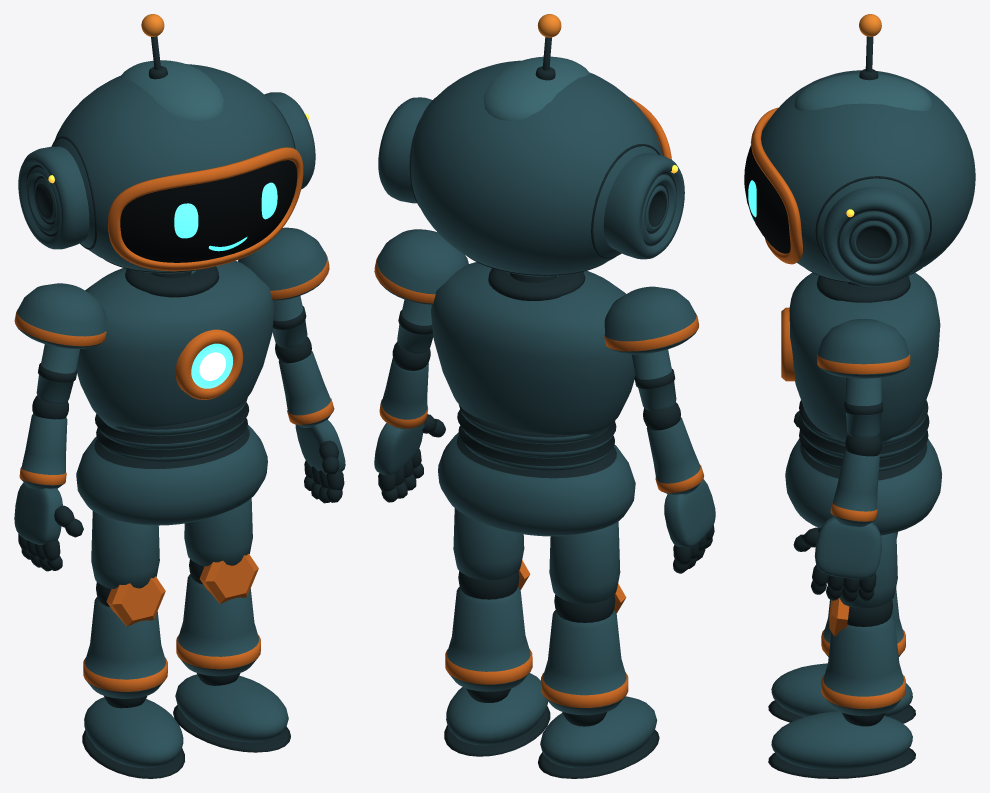
File: maximilian23.glb
3 views of the same model, side by side, from view 1: azimuth 30°, elevation 25°; view 2: azimuth 150°, elevation 25°; view 3: azimuth 270°, elevation 25° (orthographic). The views are drawn at different scales.
Visible parts, largest first — view 1: Pecho, Carcasa, Cadera, Pantalla, Espinilla_R, Espinilla_L, Auricular_R, Pie_L, Abdomen, Pie_R, Borde_Visor, Hombrera_R (+20 smaller); view 2: Carcasa, Pecho, Cadera, Espinilla_R, Espinilla_L, Auricular_R, Abdomen, Pie_R, Hombrera_R, Hombrera_L, Muslo_R, Pie_L (+16 smaller); view 3: Carcasa, Pecho, Auricular_L, Cadera, Espinilla_L, Pie_L, Hombrera_L, Panel_Superior, Palma_L, Abdomen, Antebrazo_L, Pie_R (+14 smaller).
Boxes of the visible parts, x1,y1,x2,y2 form: Pecho: (76, 261, 274, 432); Carcasa: (52, 64, 294, 273); Cadera: (76, 425, 267, 525); Pantalla: (120, 160, 297, 262); Espinilla_R: (83, 597, 167, 698); Espinilla_L: (176, 574, 260, 676); Auricular_R: (18, 146, 89, 249); Pie_L: (175, 674, 288, 742); Abdomen: (95, 398, 249, 462); Pie_R: (84, 697, 183, 768); Borde_Visor: (108, 147, 303, 271); Hombrera_R: (14, 283, 106, 349); Carcasa: (409, 60, 662, 276); Pecho: (431, 262, 635, 440); Cadera: (438, 432, 635, 536); Espinilla_R: (541, 610, 628, 715); Espinilla_L: (445, 586, 532, 691); Auricular_R: (603, 153, 684, 259); Abdomen: (457, 405, 616, 471); Pie_R: (540, 696, 657, 768); Hombrera_R: (604, 286, 698, 354); Hombrera_L: (374, 229, 468, 304); Muslo_R: (549, 521, 620, 603); Pie_L: (446, 673, 548, 745); Carcasa: (761, 70, 975, 283); Pecho: (789, 272, 940, 445); Auricular_L: (822, 186, 925, 286); Cadera: (785, 438, 941, 535); Espinilla_L: (821, 614, 905, 715); Pie_L: (771, 711, 912, 770); Hombrera_L: (817, 319, 910, 378); Panel_Superior: (794, 73, 932, 111); Palma_L: (814, 516, 881, 579); Abdomen: (798, 400, 929, 471); Antebrazo_L: (830, 450, 879, 526); Pie_R: (771, 663, 912, 716).
Bounding box in the file's own units: 2.79 × 6.22 × 1.82.
